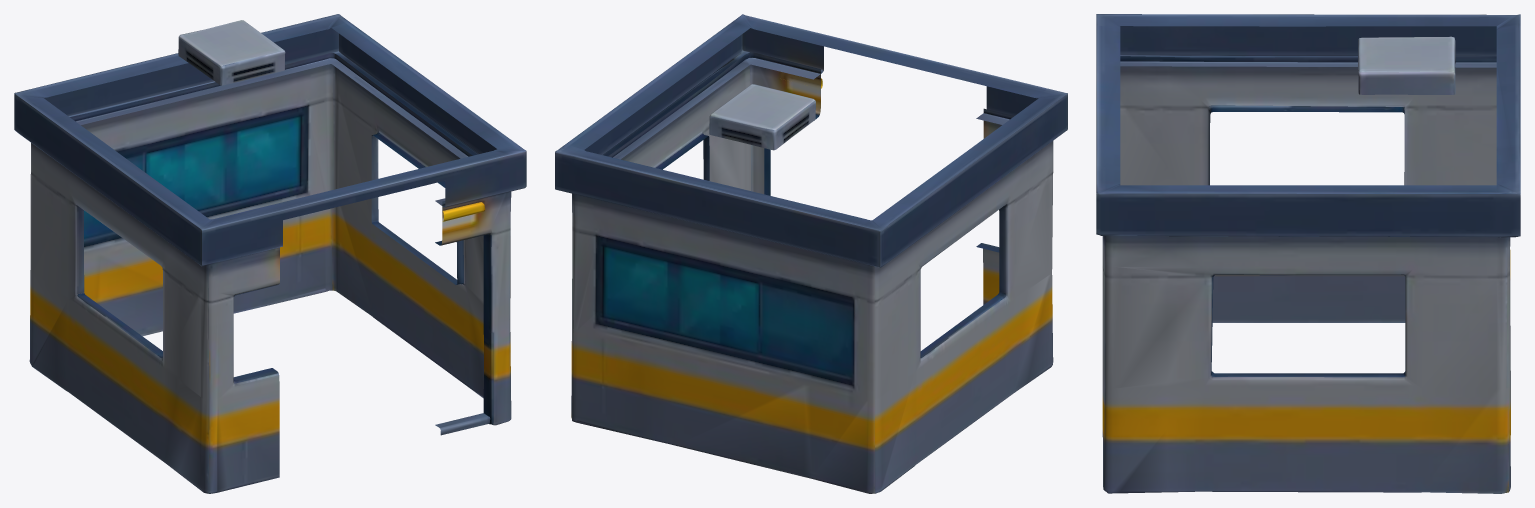
Rendered from gatehouse.glb.
The picture shows the model from 3 angles, left to right: view 1: azimuth 30°, elevation 25°; view 2: azimuth 150°, elevation 25°; view 3: azimuth 270°, elevation 25°; orthographic projection. The views are drawn at different scales.
Parts seen in each view (by area): view 1: meshy-gatehouse; view 2: meshy-gatehouse; view 3: meshy-gatehouse.
Boxes of the visible parts, x1,y1,x2,y2 form: meshy-gatehouse: (14,14,526,493); meshy-gatehouse: (555,14,1067,493); meshy-gatehouse: (1096,14,1520,493).
Bounding box in the file's own units: 3 × 2.8 × 3.
Materials: 1 (1 with a texture image).
